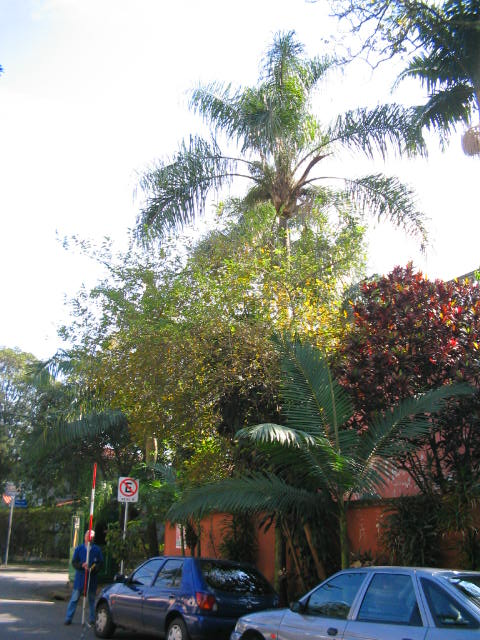stick: (74, 460, 101, 626)
